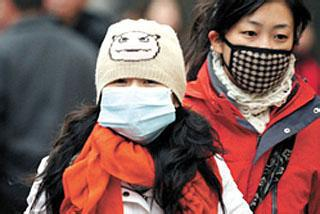OK: (104, 66, 175, 137), (227, 18, 294, 93)
